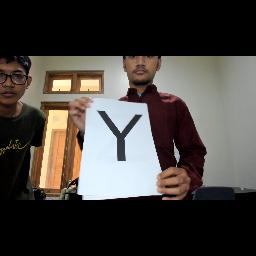y: (94, 107, 146, 167)
